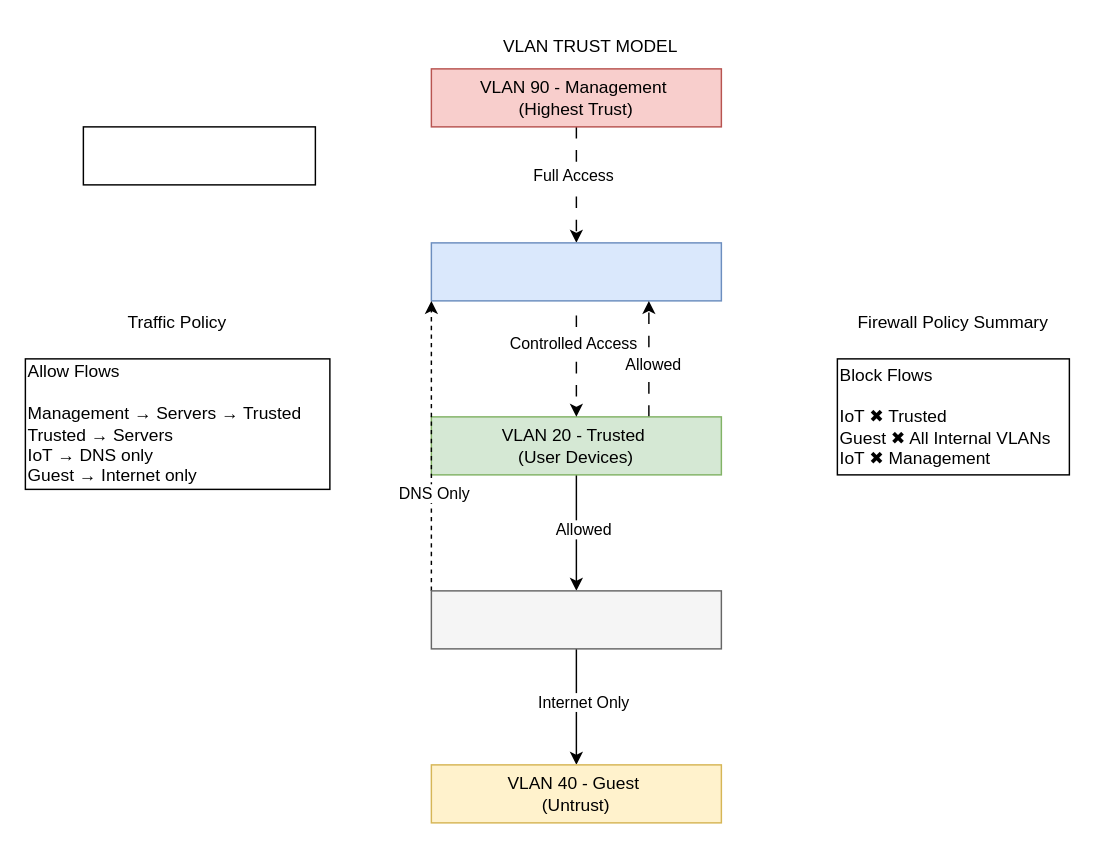
Image size: 1095x848. Some labels were removed from this diagram. The centre of each missing label's shape, as x and y in pixels:
Higher Trust -> Lower Trust: (198,155)
VLAN 30 - IoT (Restricted Devices): (575,619)
VLAN 50 - Servers (Core Services): (575,271)
